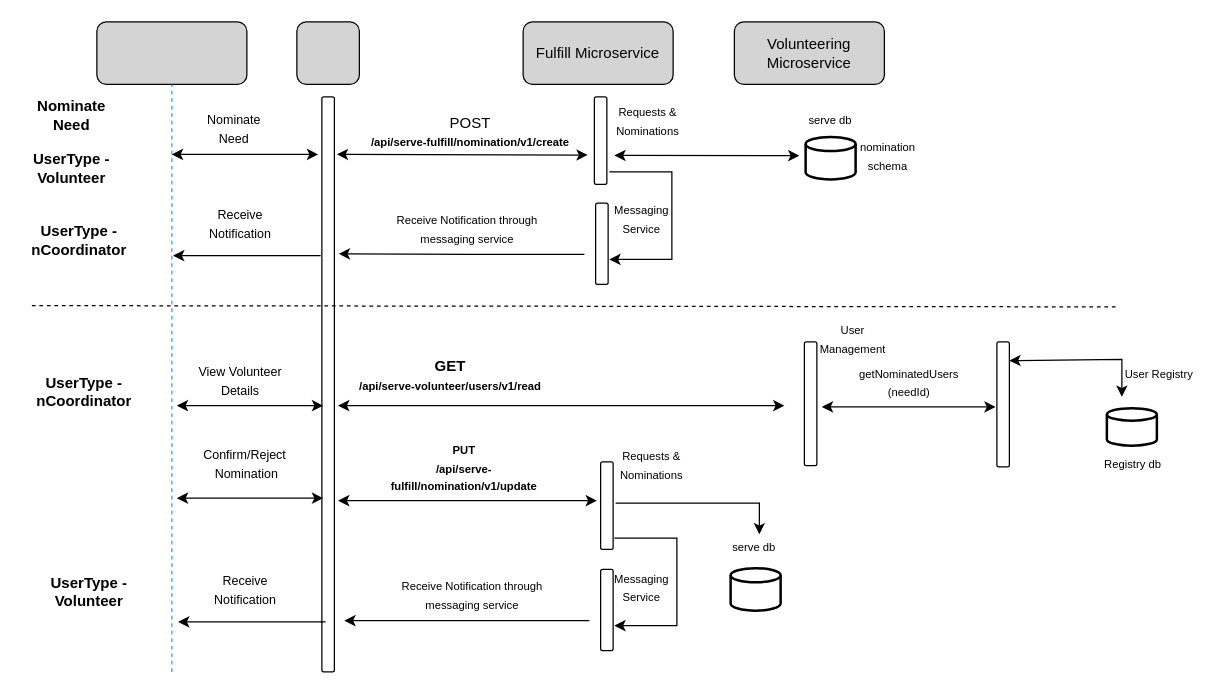
Some shapes in this 1218 by 695 pixel diagram are drawn without their labels. Each missing label, with the box of its shape:
API Gateway: (296, 21, 359, 84)
Serve UI: (96, 21, 247, 84)
